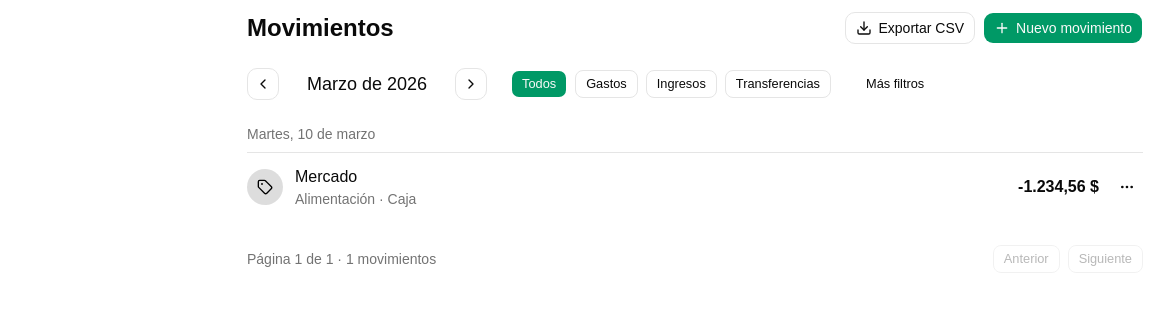
it: TransactionsPage › period and filters › shows the month and moves with the arrows
The width and height of the screenshot is (1160, 310).
Expected: the text with test id "month" reads "marzo de 2026", [307,74,427,94]
Click the button named "Mes anterior" at (263, 84), box [247,68,279,100]
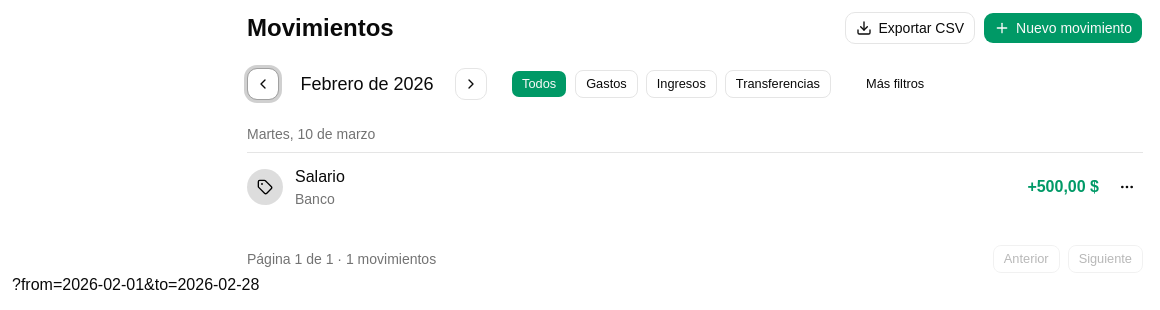
Expected: the text "Salario" is shown, [295,165,345,189]
Expected: the text with test id "where" shows "from=2026-02-01&to=2026-02-28", [12,276,259,293]
